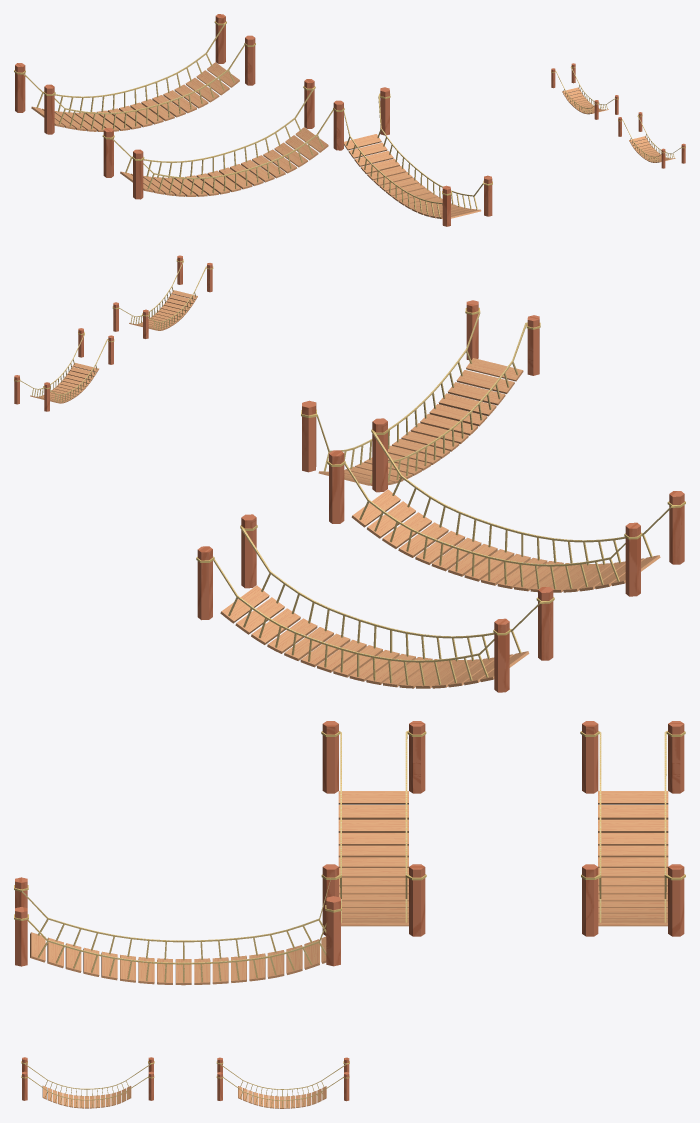
File: jungle_5.dae
3 views of the same model, one above another, from view 1: azimuth 30°, elevation 25°; view 2: azimuth 150°, elevation 25°; view 3: azimuth 270°, elevation 25° (orthographic). The views are drawn at different scales.
Parts seen in each view (by area): view 1: Cube.008_Cube.000, Cube.008_Cube.004, Cube.008_Cube.001, Cube.008_Cube.003, Cube.008_Cube.002; view 2: Cube.008_Cube.004, Cube.008_Cube.000, Cube.008_Cube.001, Cube.008_Cube.003, Cube.008_Cube.002; view 3: Cube.008_Cube.004, Cube.008_Cube.000, Cube.008_Cube.001, Cube.008_Cube.003, Cube.008_Cube.002.
Part boxes in pixels (box(x1,y1,x2,y2)): Cube.008_Cube.000: box(102, 79, 344, 199); Cube.008_Cube.004: box(14, 14, 255, 134); Cube.008_Cube.001: box(344, 87, 492, 226); Cube.008_Cube.003: box(618, 112, 685, 168); Cube.008_Cube.002: box(551, 63, 618, 119); Cube.008_Cube.004: box(196, 514, 554, 692); Cube.008_Cube.000: box(327, 418, 685, 596); Cube.008_Cube.001: box(301, 300, 540, 485); Cube.008_Cube.003: box(112, 255, 213, 338); Cube.008_Cube.002: box(14, 328, 114, 411); Cube.008_Cube.004: box(580, 721, 685, 936); Cube.008_Cube.000: box(321, 721, 426, 936); Cube.008_Cube.001: box(14, 877, 341, 985); Cube.008_Cube.003: box(21, 1057, 154, 1108); Cube.008_Cube.002: box(216, 1057, 349, 1108).
Size of the model in its own units: 13.46 by 11.98 by 1.93.
Materials: 1 (1 with a texture image).
